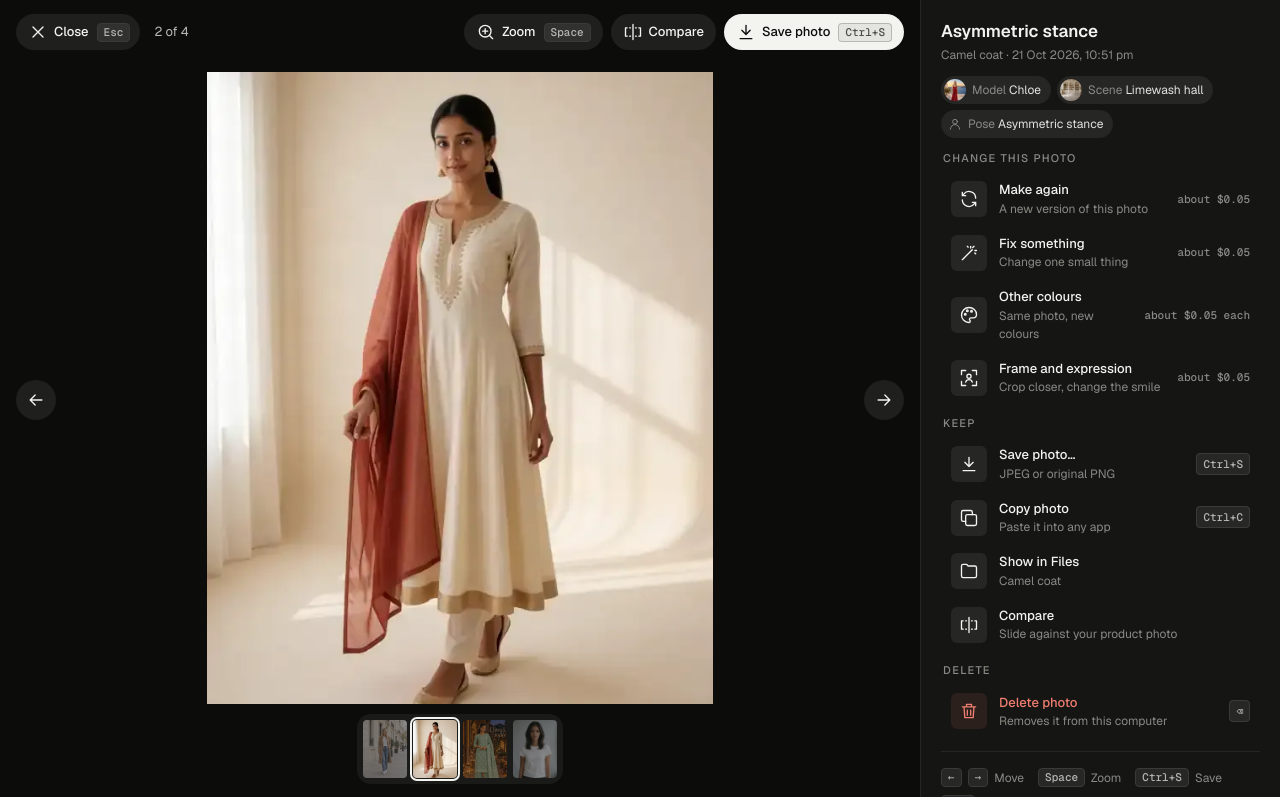
Test: Photo viewer › the arrow buttons do the same
This screenshot has width=1280, height=797.
Click the button named "Next photo" at (884, 400), box [864,380,904,420]
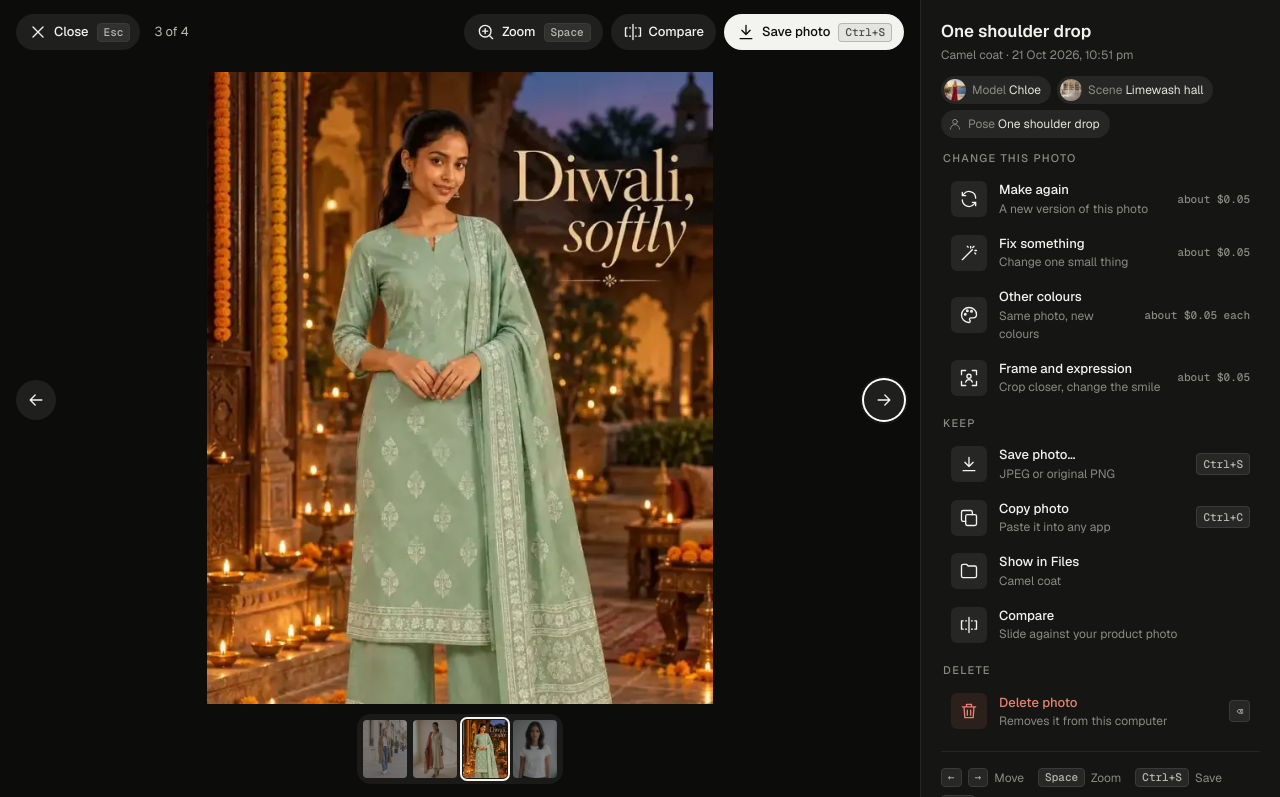
Check: the text "3 of 4" is shown, box [154,23,189,40]
Click the button named "Previous photo" at (36, 400), box [16,380,56,420]
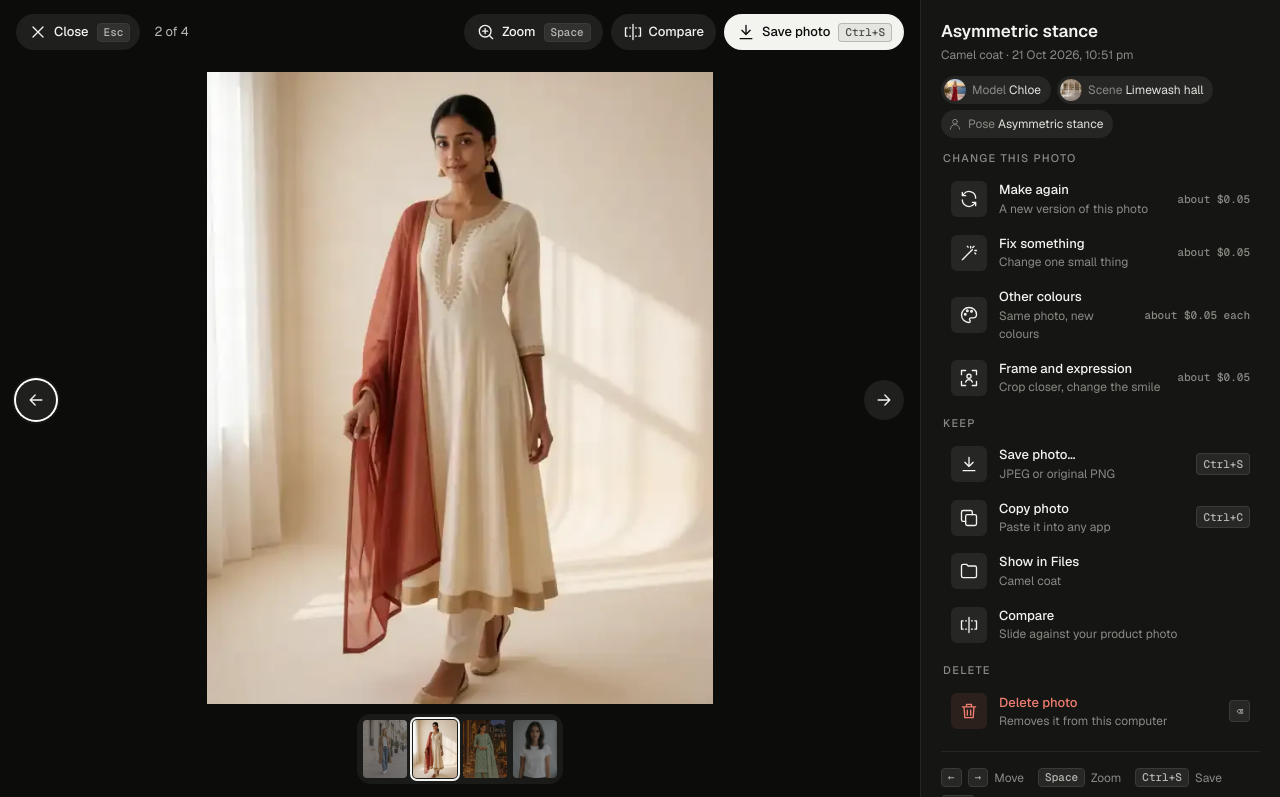
Check: the text "2 of 4" is shown, box [154,23,189,40]
